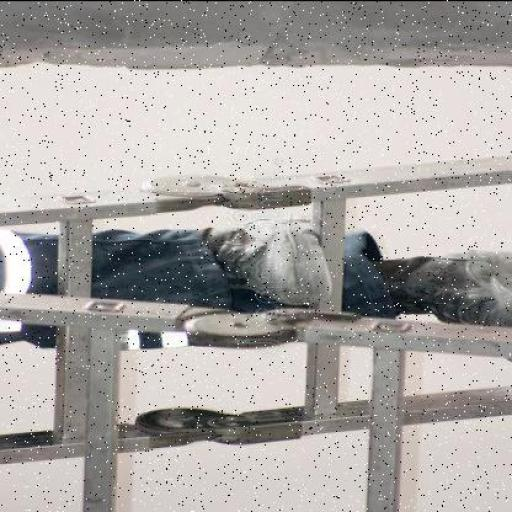safety_shoe: (380, 247, 511, 322), (202, 218, 324, 298)
